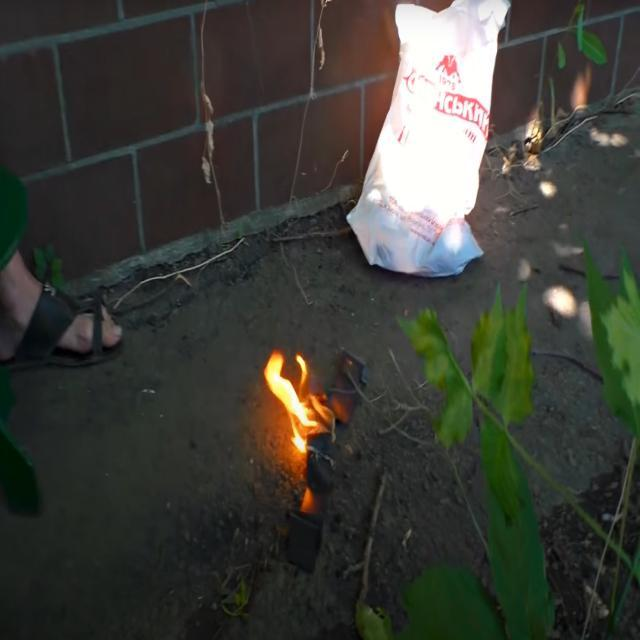Fire: (262, 342, 345, 476)
